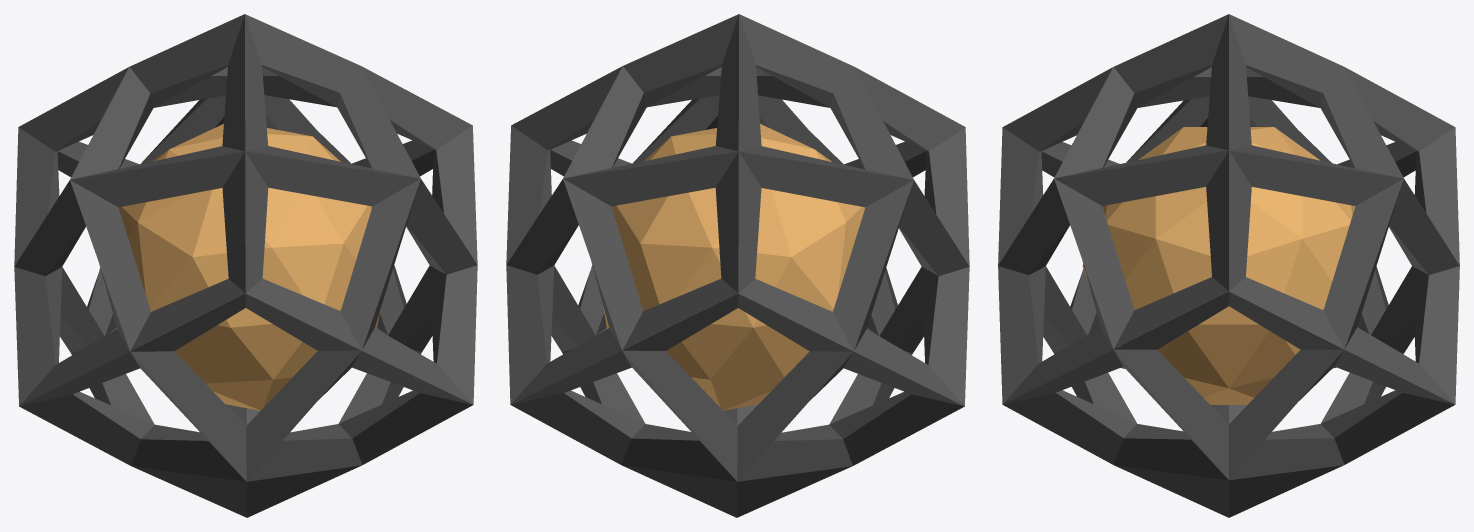
Rendered from power.fbx.
3 renders of one model, left to right at view 1: azimuth 30°, elevation 25°; view 2: azimuth 150°, elevation 25°; view 3: azimuth 270°, elevation 25°, orthographic.
Visible parts, largest first — view 1: Cube; view 2: Cube; view 3: Cube.
Boxes of the visible parts, left/top/right/bottom form: Cube: left=14, top=14, right=477, bottom=517; Cube: left=506, top=14, right=969, bottom=517; Cube: left=998, top=14, right=1459, bottom=517.
Bounding box in the file's own units: 178 × 190 × 158.
